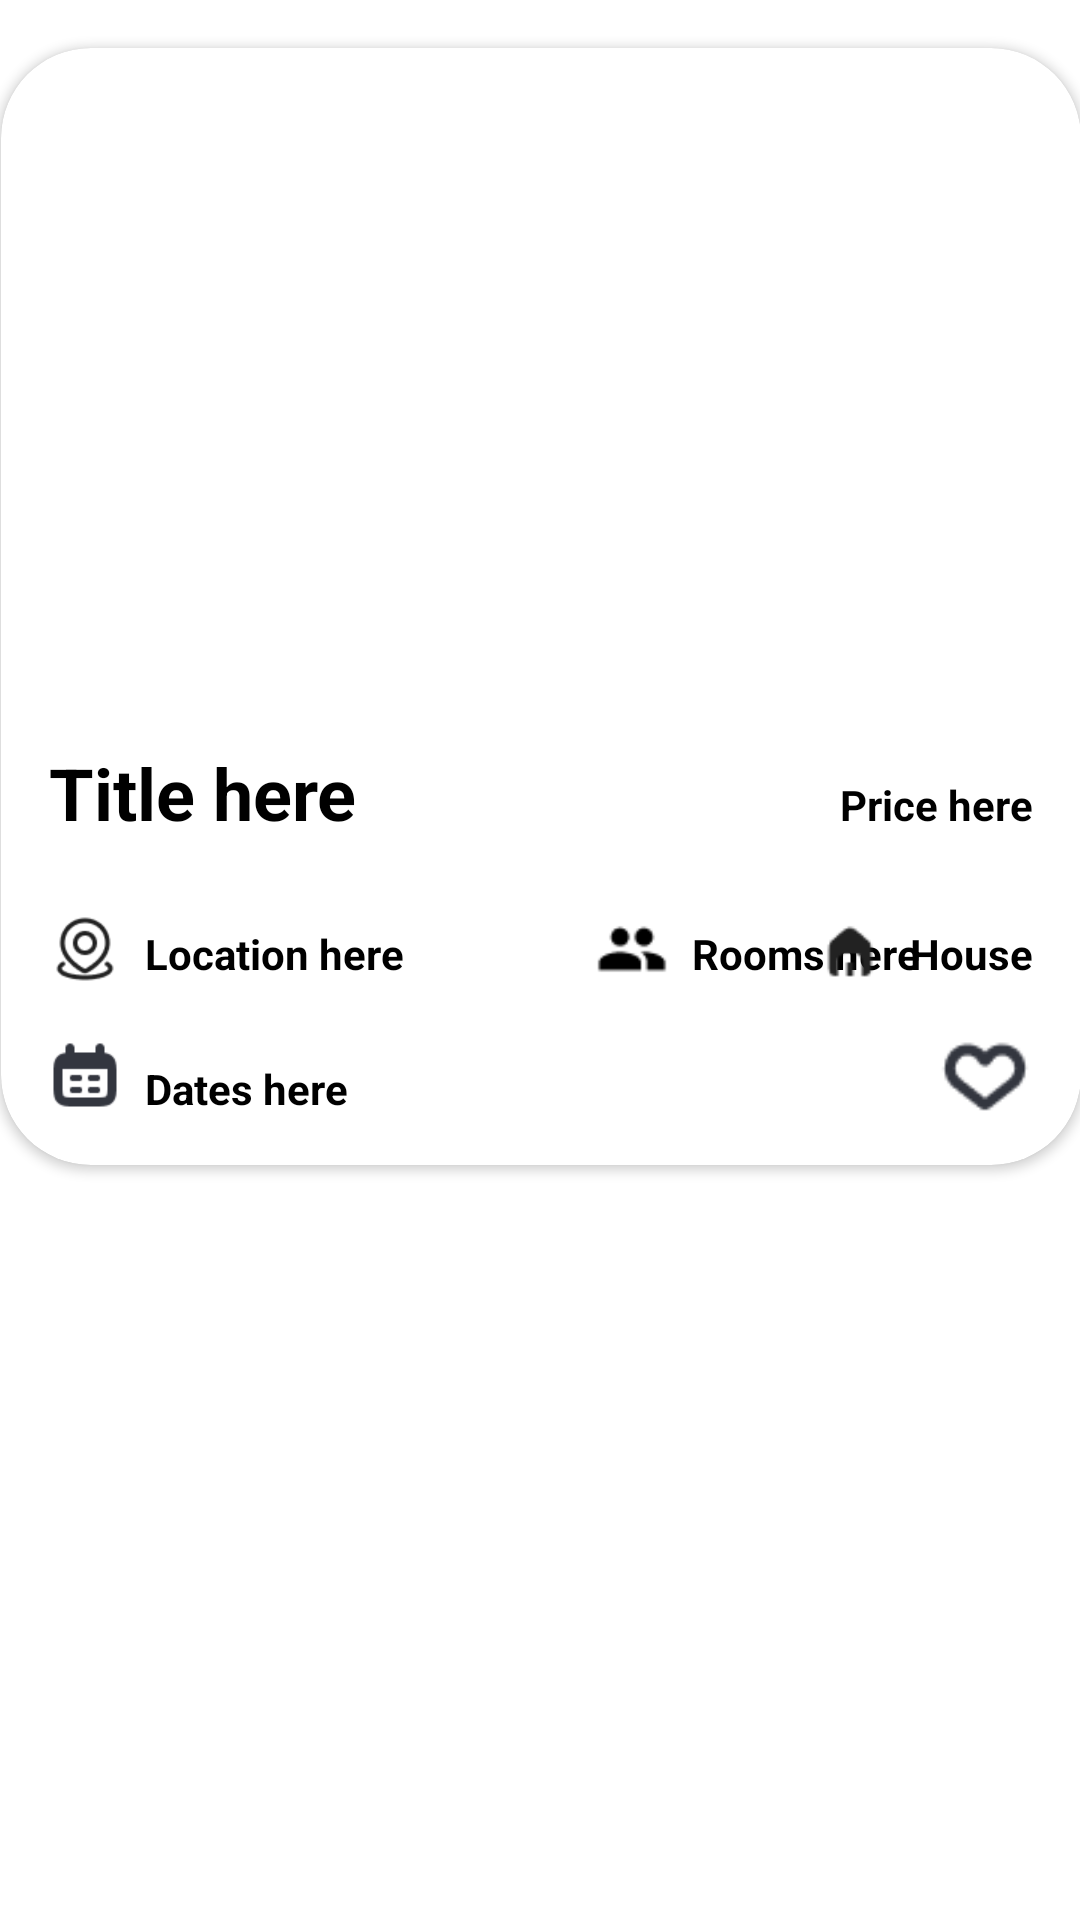

Locate icon controls on the screen. Image size 1080w x 1920h, boxes as box(x1, y1, x2, y2).
calendar: box(53, 1043, 117, 1107)
like: box(944, 1043, 1026, 1111)
